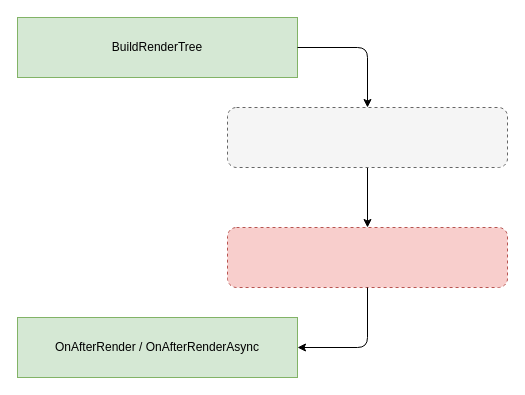
Some shapes in this 525 by 395 pixel diagram are drawn without their labels. The centre of each missing label's shape, as x and y in pixels:
"Create new child components" goes at point (367, 137).
"Dispose unused child components" goes at point (367, 257).
